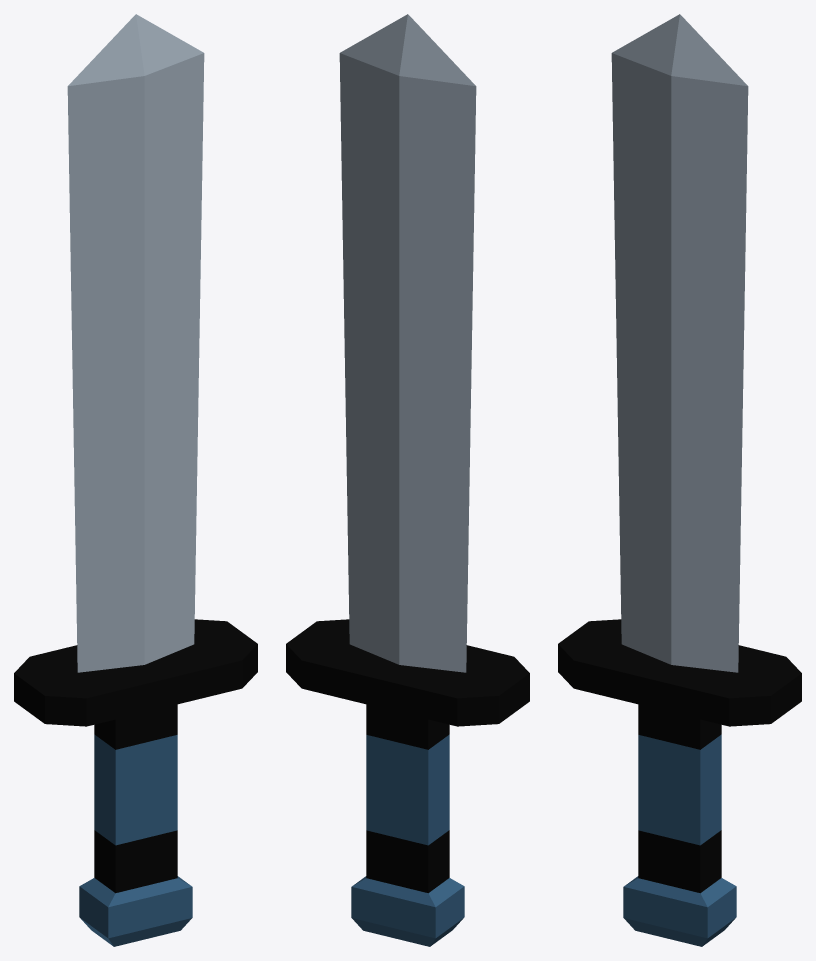
The model's file is melee2.fbx.
3 renders of one model, left to right at view 1: azimuth 30°, elevation 25°; view 2: azimuth 150°, elevation 25°; view 3: azimuth 330°, elevation 25°, orthographic.
Visible parts, largest first — view 1: Cube; view 2: Cube; view 3: Cube.
Part boxes in pixels (x1,y1,x2,y2): Cube: (14,14,257,946); Cube: (286,14,529,946); Cube: (558,14,801,946).
Bounding box in the file's own units: 274 × 1126 × 127.
